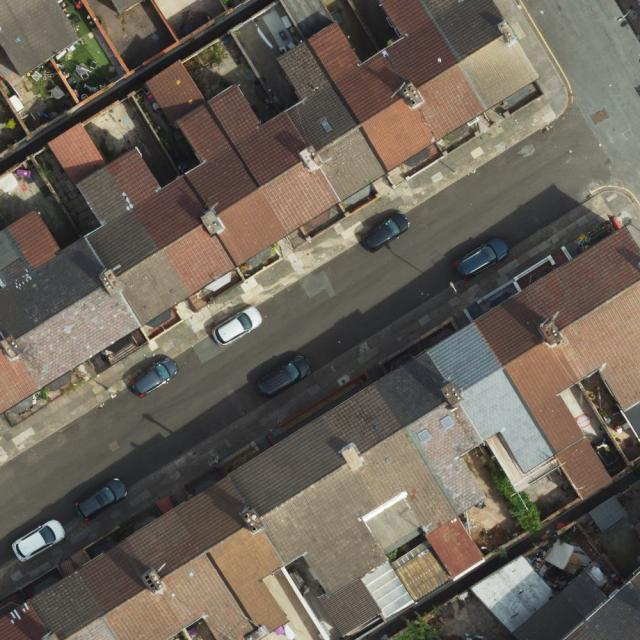roof: (0, 226, 640, 640), (0, 0, 543, 414), (515, 570, 640, 640), (0, 0, 79, 76), (112, 0, 143, 15)
skylight: (442, 415, 457, 432), (417, 430, 430, 444)
